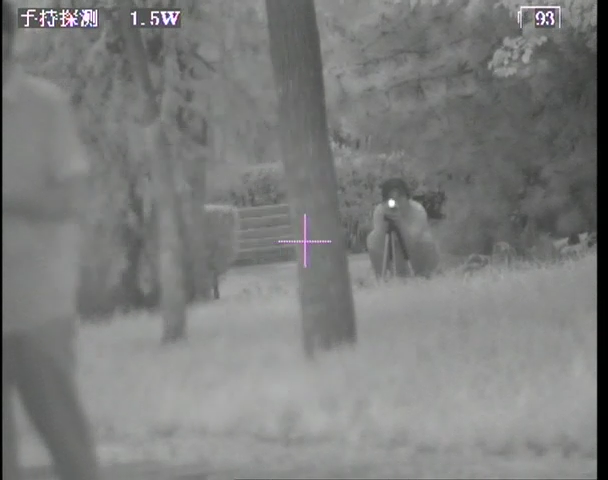my: (386, 196, 399, 210)
